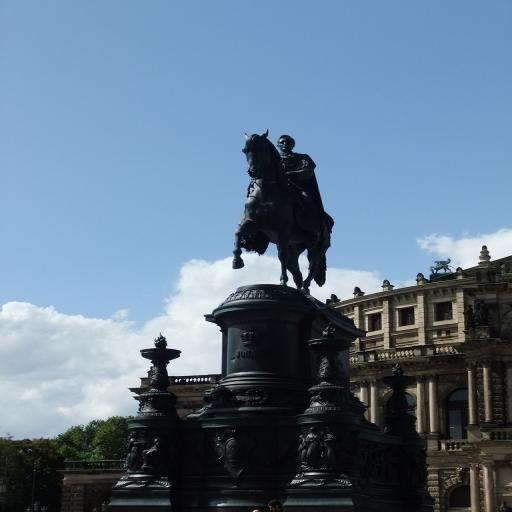horse: (228, 127, 328, 291)
